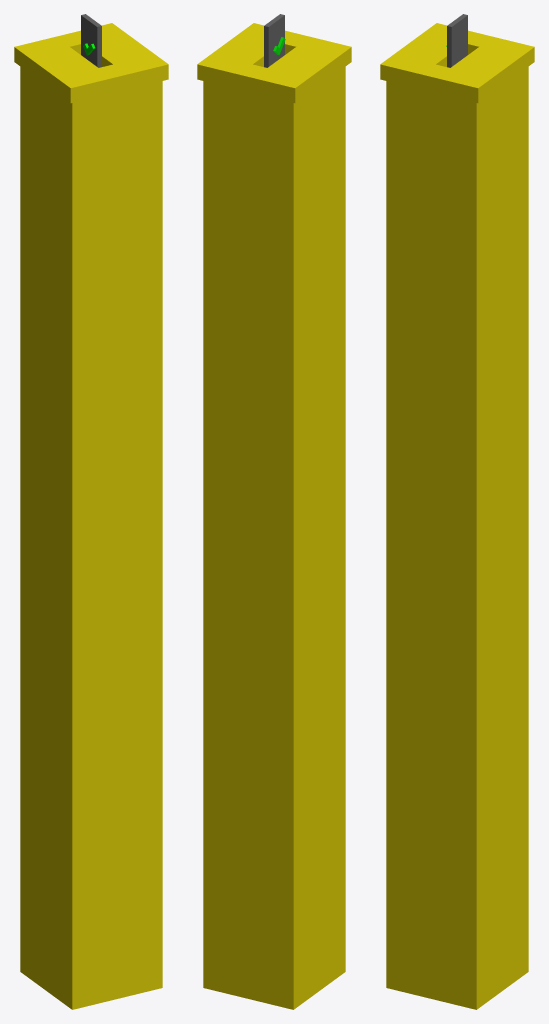
Rendered from Votebox_Long.fbx.
3 renders of one model, left to right at view 1: azimuth 30°, elevation 25°; view 2: azimuth 150°, elevation 25°; view 3: azimuth 330°, elevation 25°, orthographic.
Parts seen in each view (by area): view 1: Votebox_Long; view 2: Votebox_Long; view 3: Votebox_Long.
Boxes of the visible parts, x1,y1,x2,y2 form: Votebox_Long: (14,14,168,1009); Votebox_Long: (197,14,351,1009); Votebox_Long: (380,14,534,1009).
Bounding box in the file's own units: 95.11 × 889 × 95.11.
